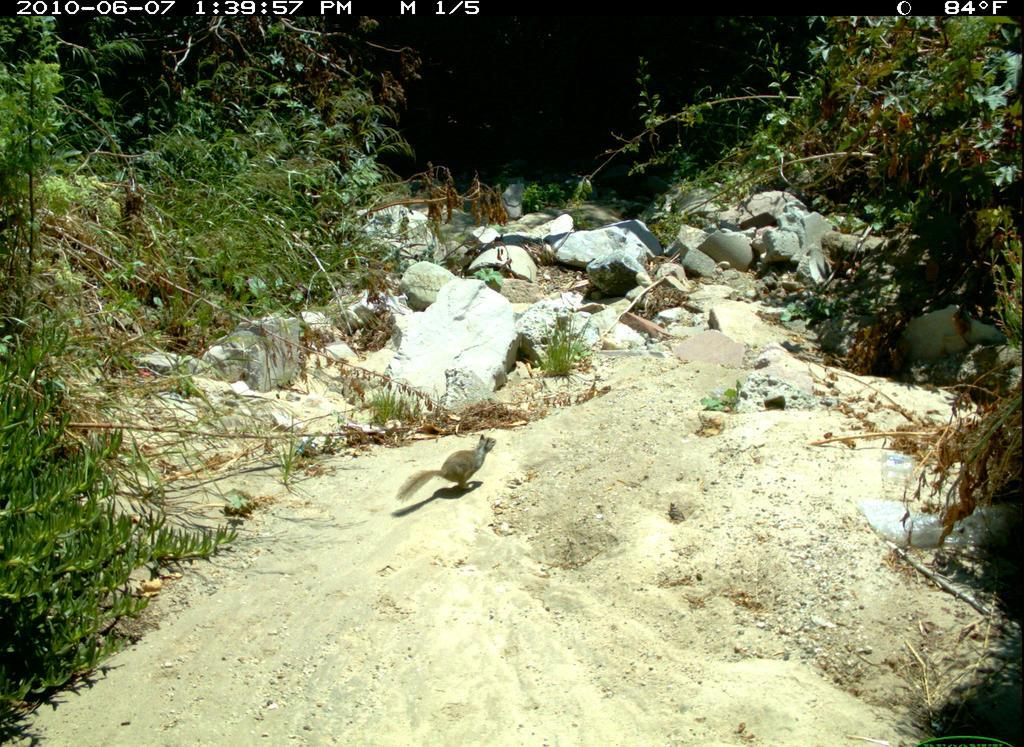squirrel: (392, 427, 510, 513)
